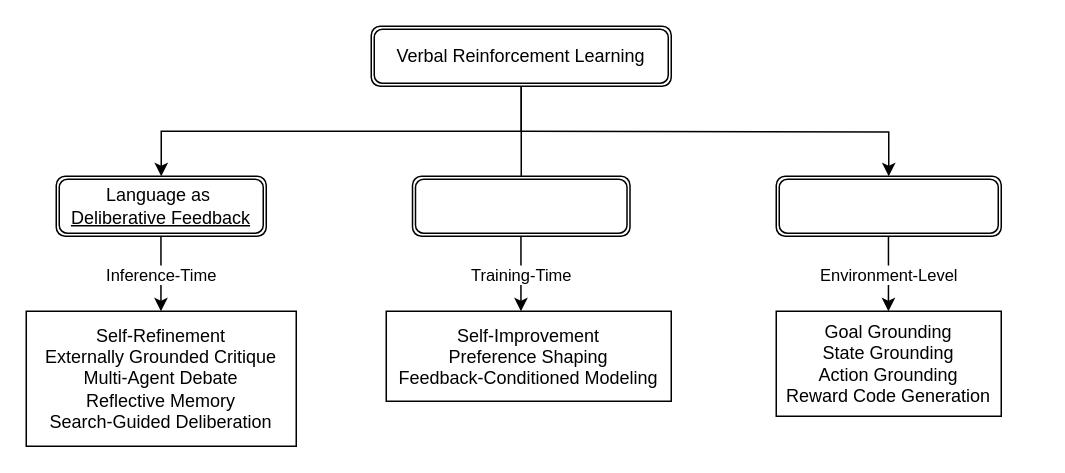
Some shapes in this 1065 by 473 pixel diagram are drawn without their labels. The shapes that lost their labels are listed below. From the top down, each one's box as (x1, y1, x2, y2) in pixels, then its label:
(411, 175, 630, 236): Language as Learning Signal
(775, 175, 1001, 236): Language as Grounding Signal
